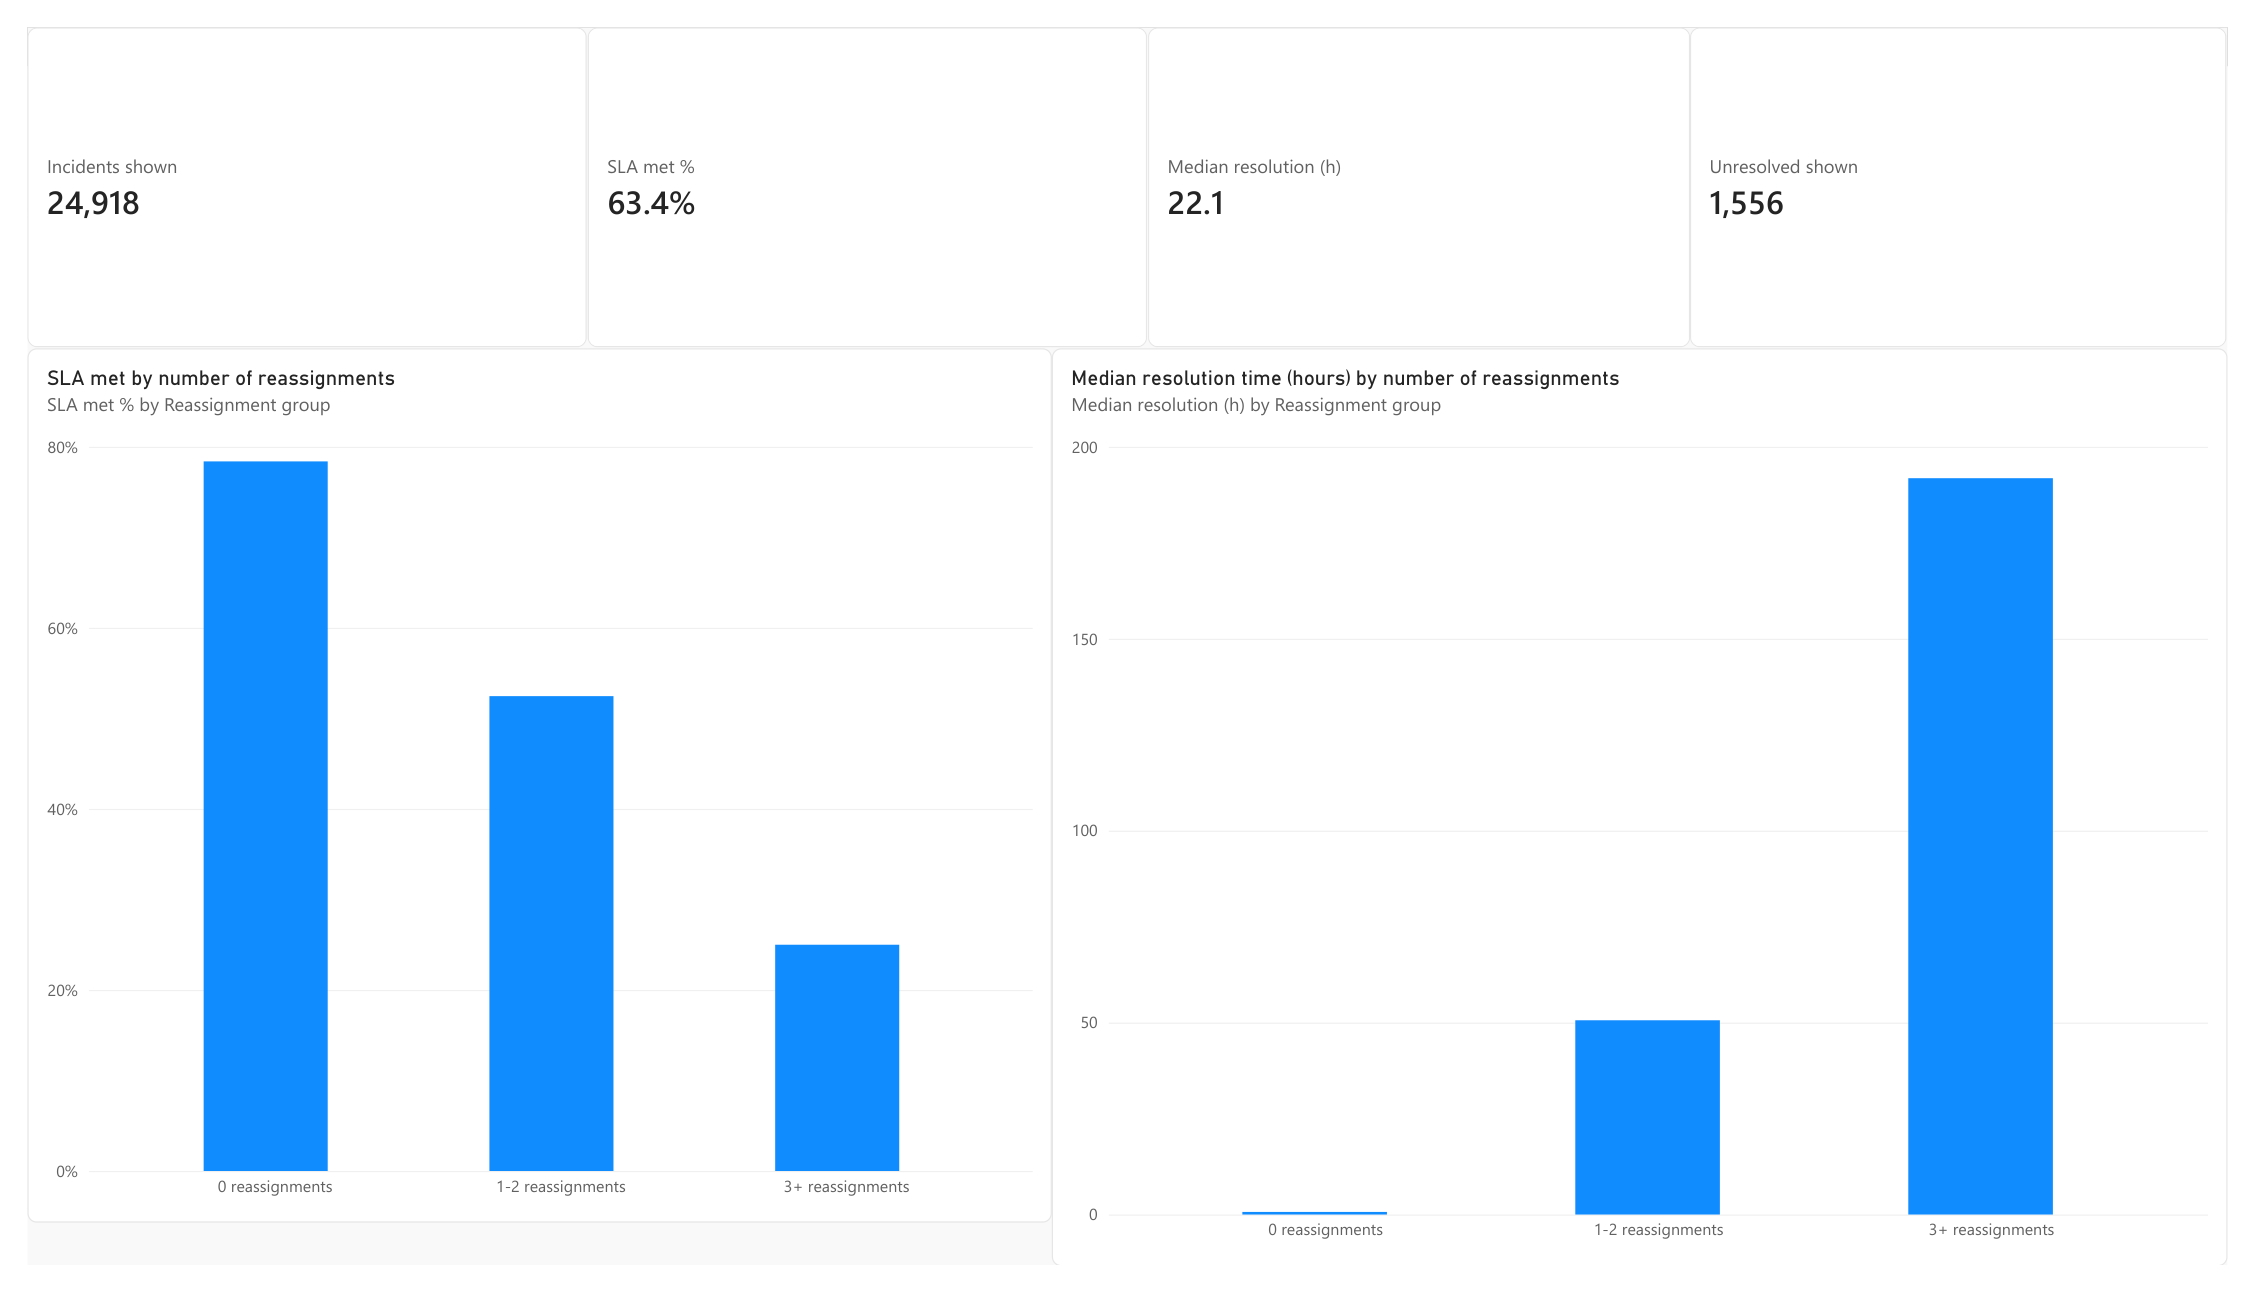

The dashboard page shown, as its layout file describes it:
{"tool":"powerbi","page":{"name":"Page 1","canvas":[1920,1080],"ordinal":0},"visuals":[{"type":"cardVisual","fields":{"Data":["fact_incident.Incidents shown"]},"box":[0,0,488.8,279.7],"z":0},{"type":"cardVisual","fields":{"Data":["fact_incident.SLA met %"]},"box":[488.8,0,488.8,279.7],"z":1},{"type":"cardVisual","fields":{"Data":["fact_incident.Median resolution (h)"]},"box":[977.6,0,473.7,279.7],"z":2},{"type":"cardVisual","fields":{"Data":["fact_incident.Unresolved shown"]},"box":[1451.3,0,468.7,279.7],"z":3},{"type":"clusteredColumnChart","title":"SLA met by number of reassignments","fields":{"Category":["fact_incident.Reassignment group"],"Y":["fact_incident.SLA met %"]},"box":[0,279.7,894.5,763.5],"z":4},{"type":"clusteredColumnChart","title":"Median resolution time (hours) by number of reassignments","fields":{"Category":["fact_incident.Reassignment group"],"Y":["fact_incident.Median resolution (h)"]},"box":[894.5,279.7,1025.5,801.3],"z":5}]}

Visuals, with their boxes in screenshot pixels (x1, y1, x2, y2), scaled from the page's 1920x1080 canvas onto the 2255x1293 screenshot:
cardVisual - fact_incident.Incidents shown: detection(0, 0, 574, 335)
cardVisual - fact_incident.SLA met %: detection(574, 0, 1148, 335)
cardVisual - fact_incident.Median resolution (h): detection(1148, 0, 1705, 335)
cardVisual - fact_incident.Unresolved shown: detection(1705, 0, 2254, 335)
"SLA met by number of reassignments" clusteredColumnChart: detection(0, 335, 1051, 1249)
"Median resolution time (hours) by number of reassignments" clusteredColumnChart: detection(1051, 335, 2254, 1292)
